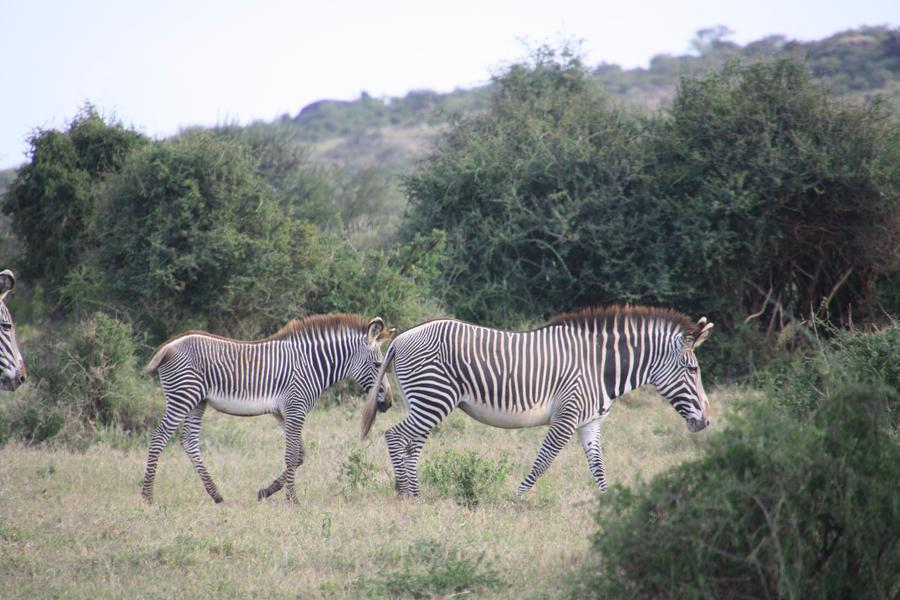zebra_grevys: (400, 322, 596, 418), (159, 329, 306, 409)
